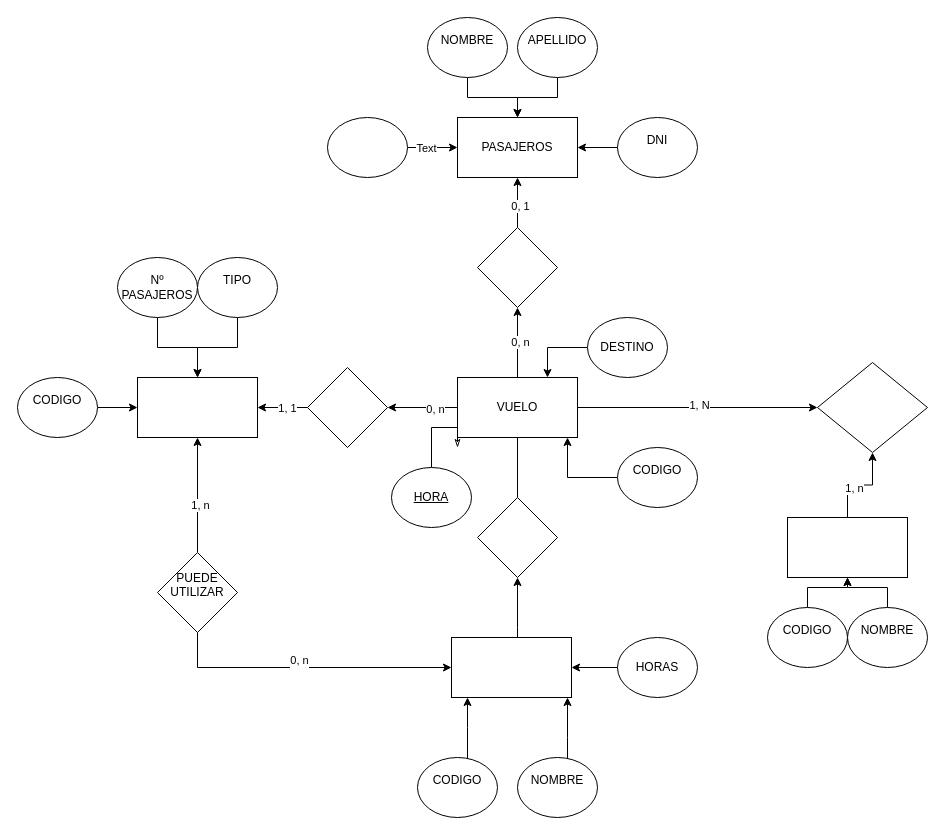
The diagram is 945 pixels wide and 835 high, and some of its shapes have lost their labels. Here are the shapes that lost their labels. From the top down, the centre of each, then its label:
At point (367, 147): "TELEFONO".
At point (517, 267): "RESERVA".
At point (197, 407): "AVIONES".
At point (347, 407): "UTILIZA".
At point (872, 407): "ADMINISTRADO".
At point (517, 537): "TIENE".
At point (847, 547): "TRIPULACIÓN".
At point (511, 667): "PILOTOS".
